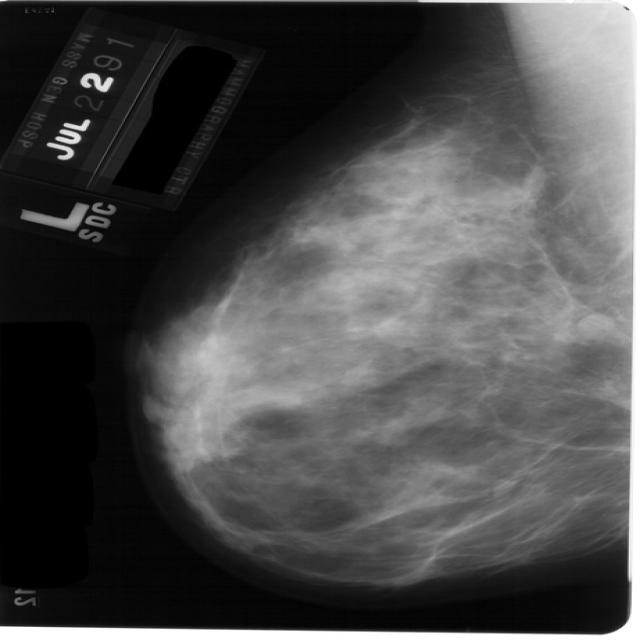tumour: (575, 310, 615, 340)
